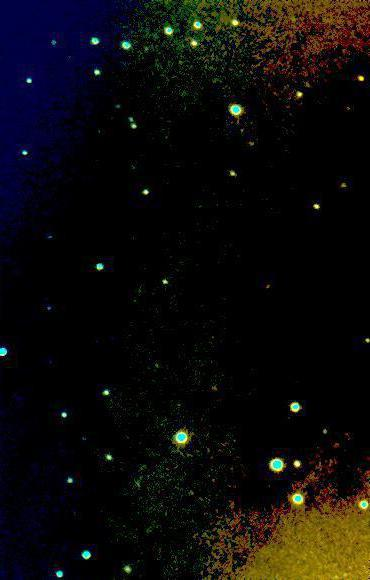star: (348, 61, 370, 91)
